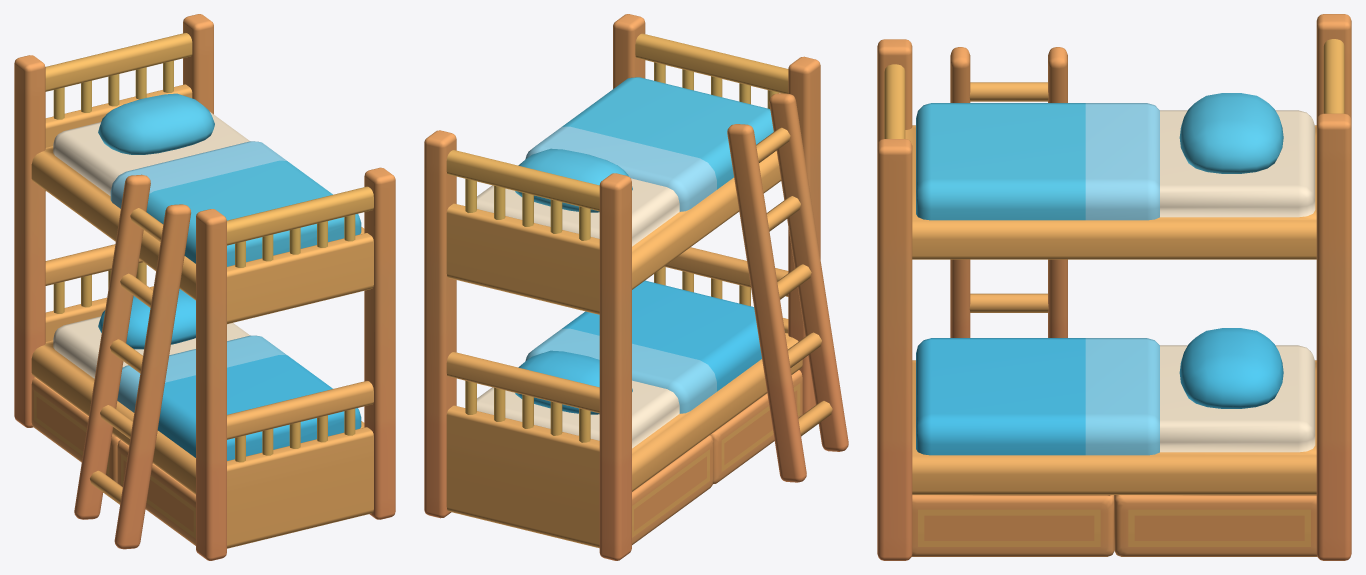
File: Bed_18.glb
3 renders of one model, left to right at view 1: azimuth 30°, elevation 25°; view 2: azimuth 150°, elevation 25°; view 3: azimuth 270°, elevation 25°, orthographic. The views are drawn at different scales.
Parts seen in each view (by area): view 1: Bed_18; view 2: Bed_18; view 3: Bed_18.
Part boxes in pixels (x1,y1,x2,y2): Bed_18: (14, 14, 395, 560); Bed_18: (424, 14, 848, 560); Bed_18: (877, 14, 1351, 560).
Size of the model in its own units: 1.24 by 1.74 by 1.7.
1 material, 1 textured.
